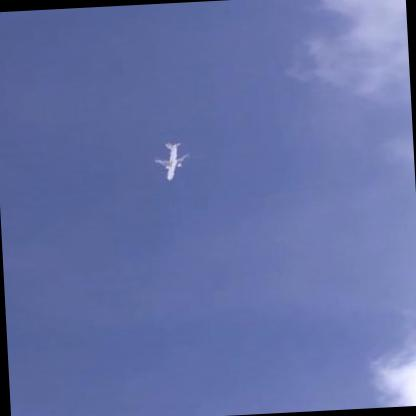plane: (154, 137, 194, 181)
